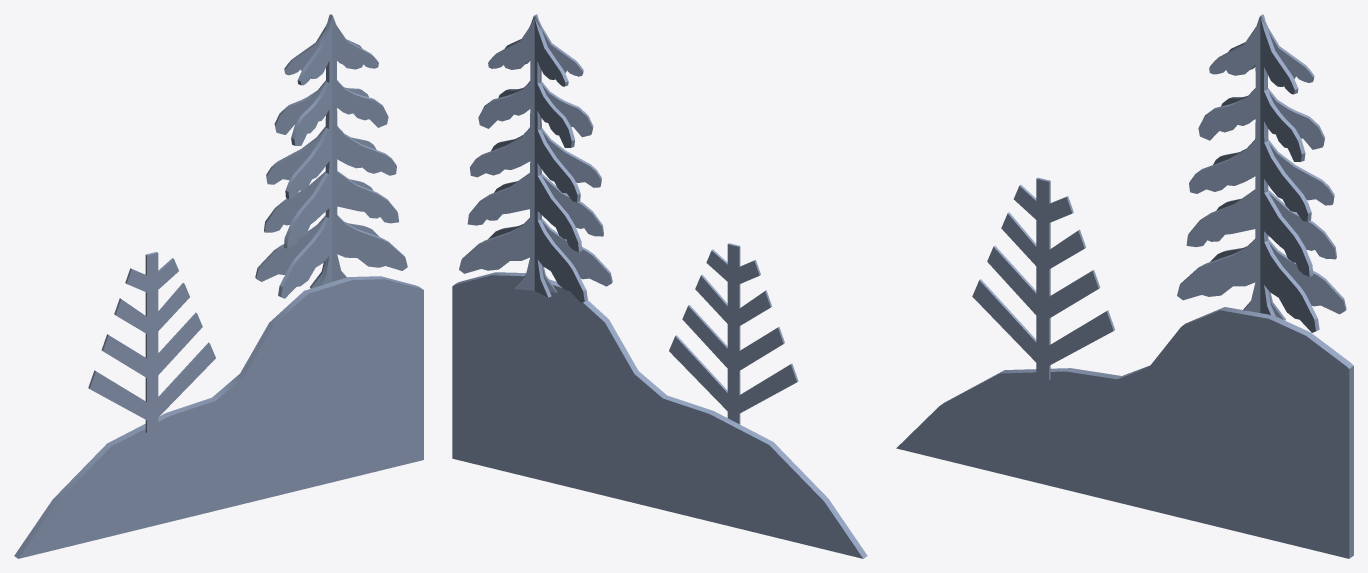
The model's file is frame_0146.glb.
The picture shows the model from 3 angles, left to right: view 1: azimuth 30°, elevation 25°; view 2: azimuth 150°, elevation 25°; view 3: azimuth 330°, elevation 25°; orthographic projection. The views are drawn at different scales.
Visible parts, largest first — view 1: export_trees_001.002; view 2: export_trees_001.002; view 3: export_trees_001.002.
Part boxes in pixels (x1=…): export_trees_001.002: x1=14, y1=14, x2=423, y2=558; export_trees_001.002: x1=452, y1=14, x2=867, y2=558; export_trees_001.002: x1=896, y1=14, x2=1353, y2=558.
Bounding box in the file's own units: 0.2413 × 0.2619 × 0.0288.
